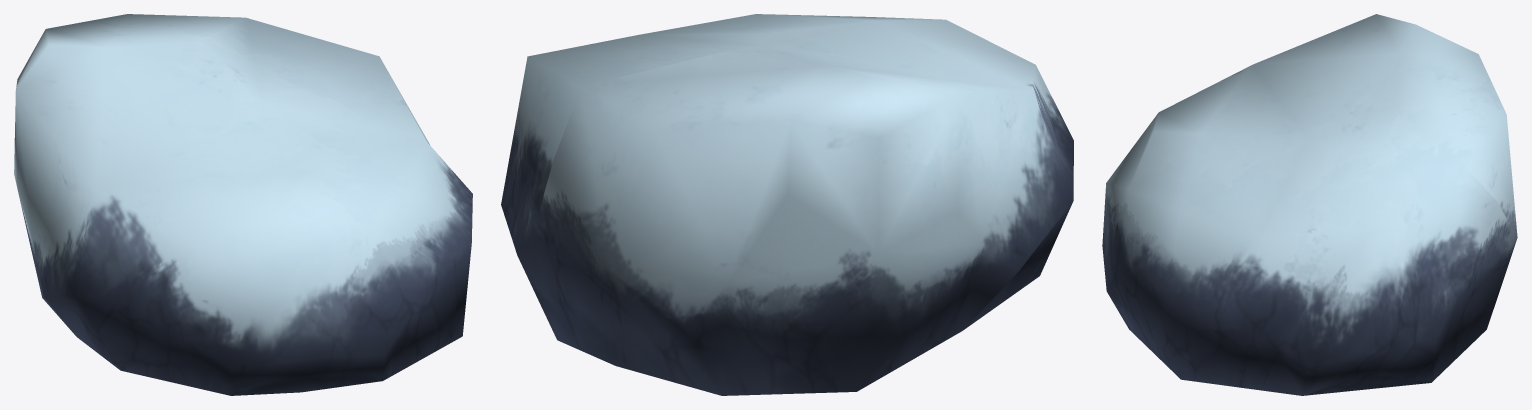
Rendered from Boulder_SizeXL.fbx.
3 views of the same model, side by side, from view 1: azimuth 30°, elevation 25°; view 2: azimuth 150°, elevation 25°; view 3: azimuth 270°, elevation 25° (orthographic). The views are drawn at different scales.
Visible parts, largest first — view 1: bolder2; view 2: bolder2; view 3: bolder2.
Part boxes in pixels (<box>): bolder2: <box>14,14,472,395</box>; bolder2: <box>501,14,1073,395</box>; bolder2: <box>1102,14,1517,395</box>.
Size of the model in its own units: 0.0736 by 0.0475 by 0.0722.
